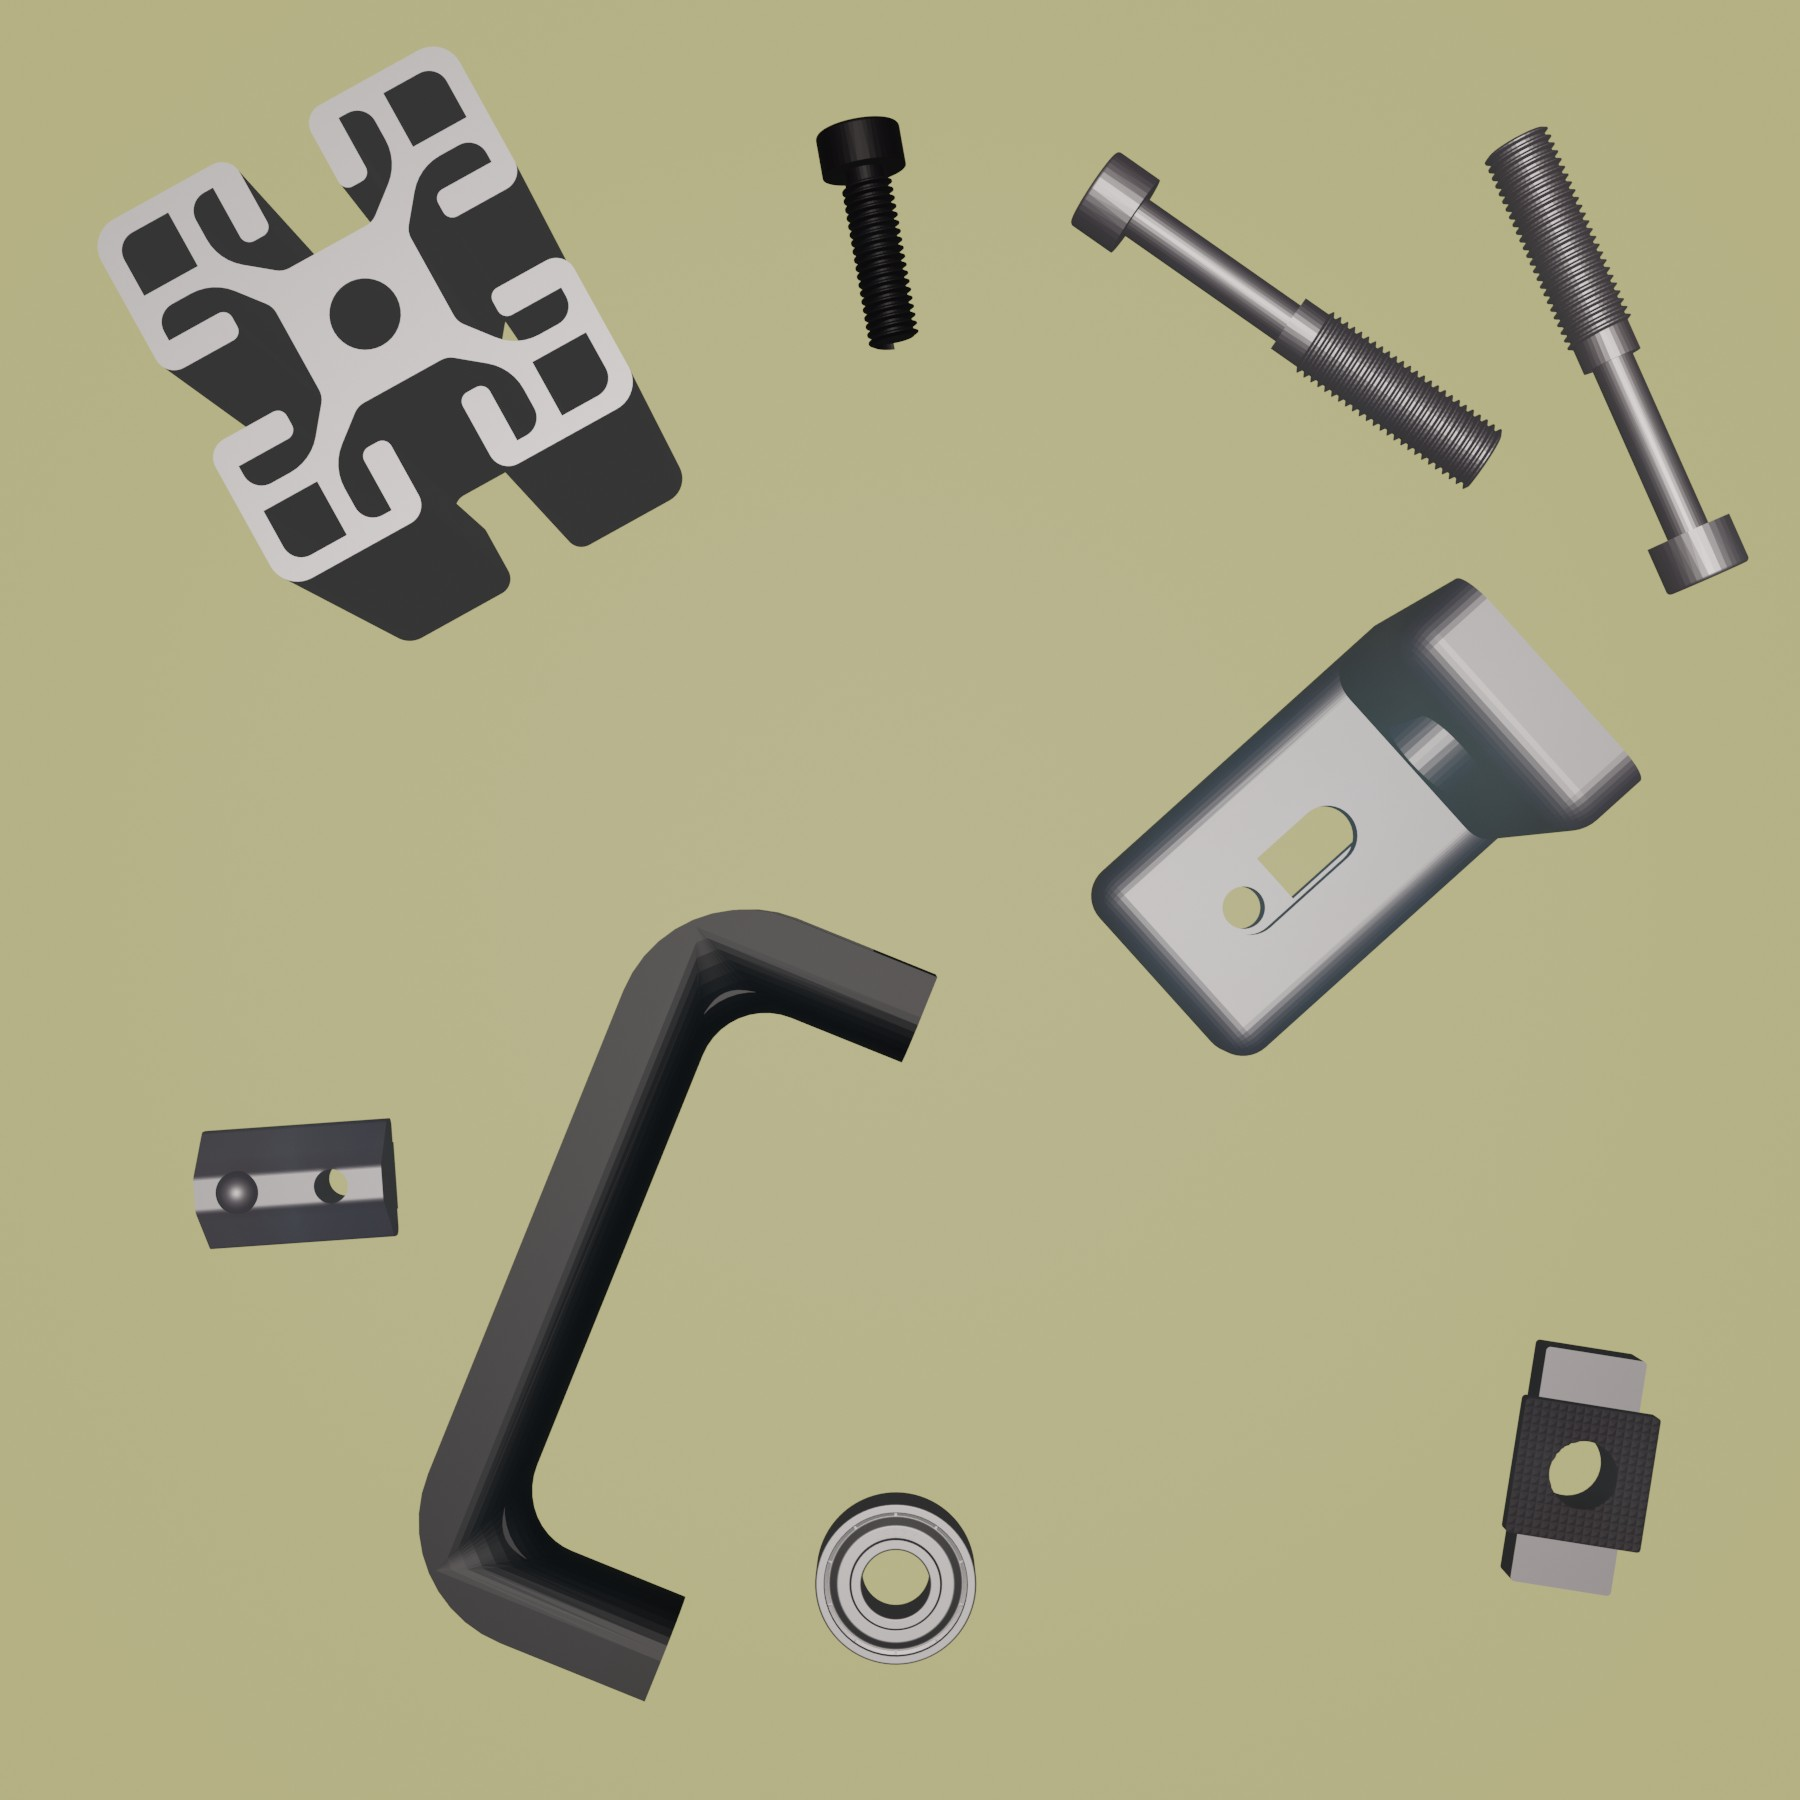Aluminium Extension: (96, 43, 682, 645)
Ball Bearing: (811, 1488, 981, 1670)
Multiwinkel: (1088, 577, 1647, 1058)
Pull Handle: (417, 905, 940, 1703)
Shoulder Socket Head Cap Screw: (1066, 148, 1505, 491), (1480, 124, 1751, 598)
Socket Head Cap Screw: (813, 115, 920, 354)
T Nut Square: (1493, 1334, 1663, 1597)
T Spring Nut: (191, 1109, 404, 1253)
